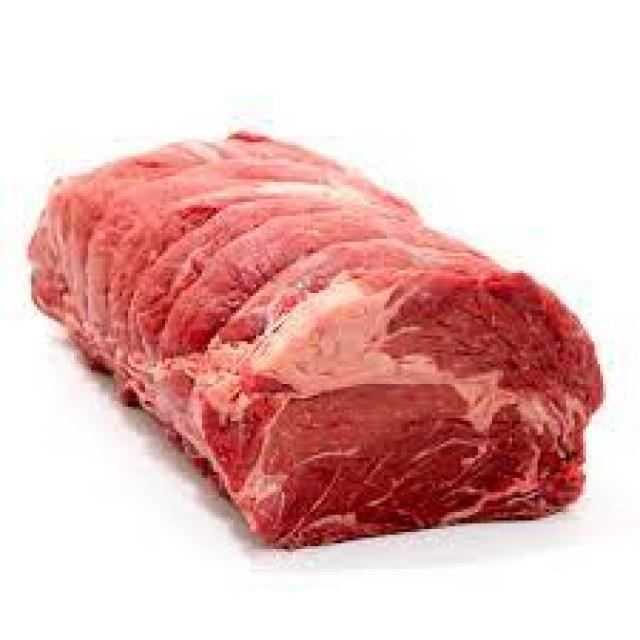beef: (12, 100, 615, 572)
